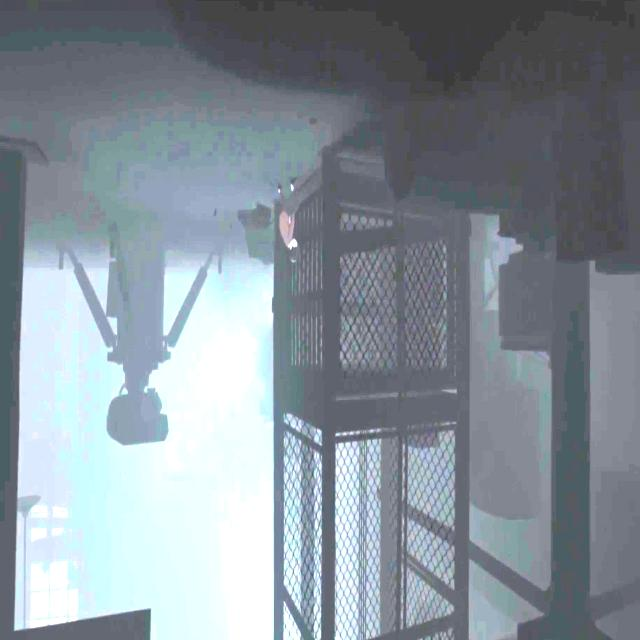boy: (274, 181, 298, 261)
